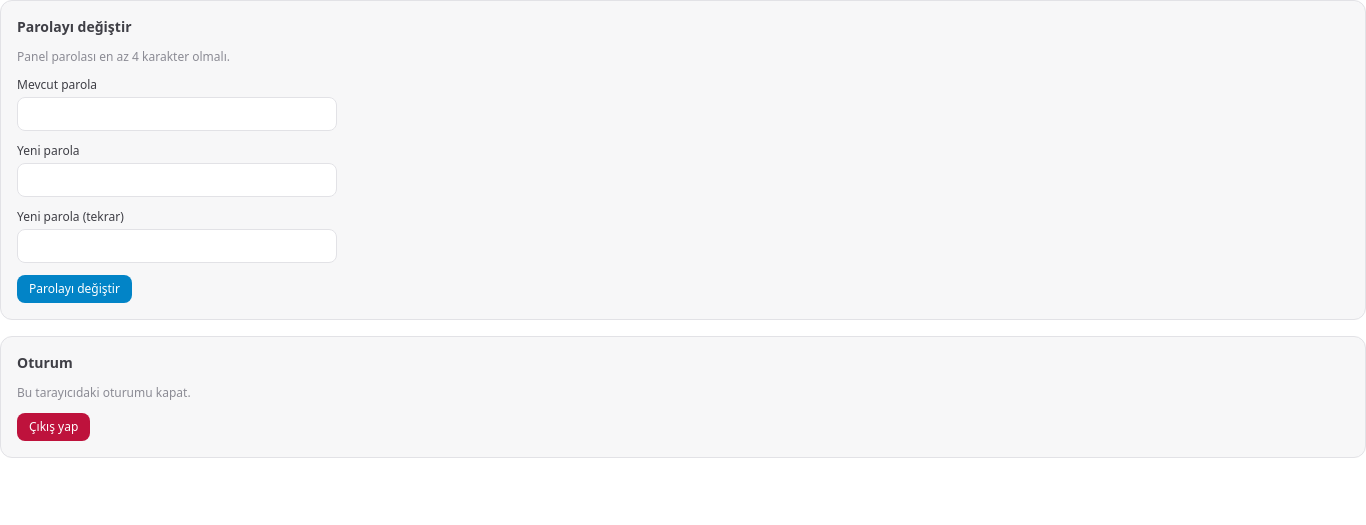
Test: SecuritySection password change › rejects a too-short new password client-side
The image size is (1366, 525).
Type "old-password" into the password field labelled "Mevcut parola" at [177, 114], box [17,97,337,131]
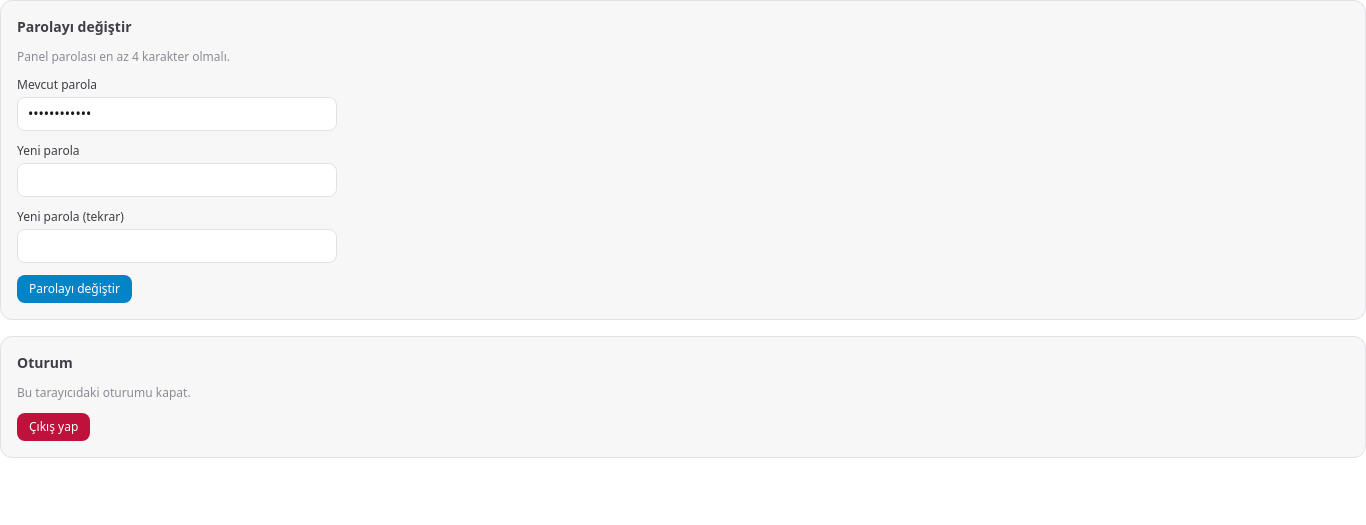
Type "abc" into the password field labelled "Yeni parola" at [177, 180], box [17,163,337,197]
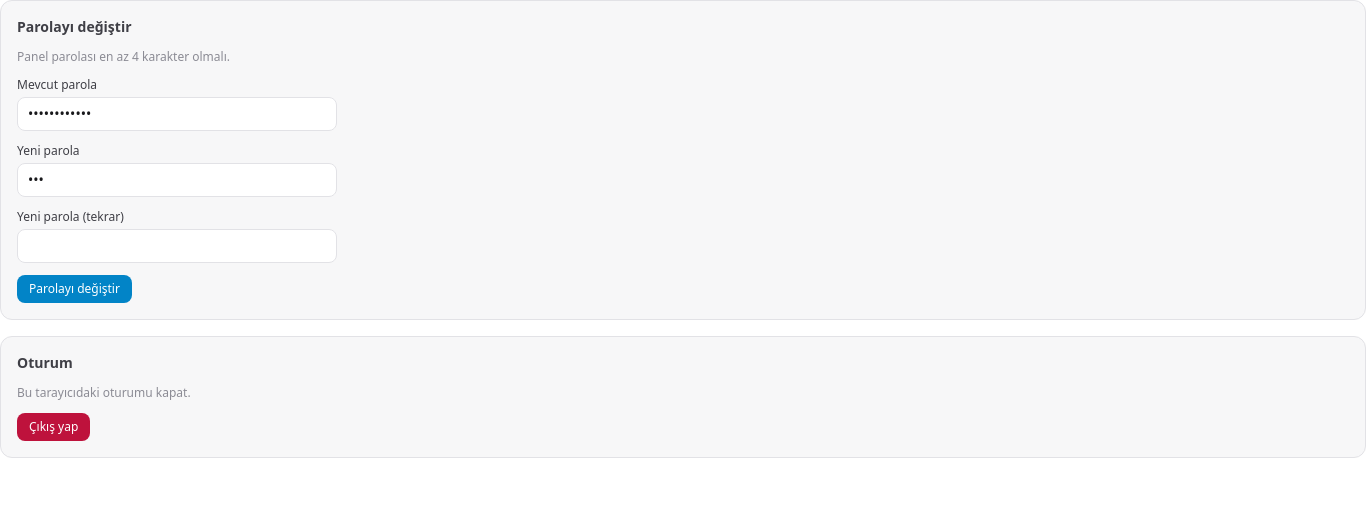
Type "abc" into the password field labelled "Yeni parola (tekrar)" at [177, 246], box [17,229,337,263]
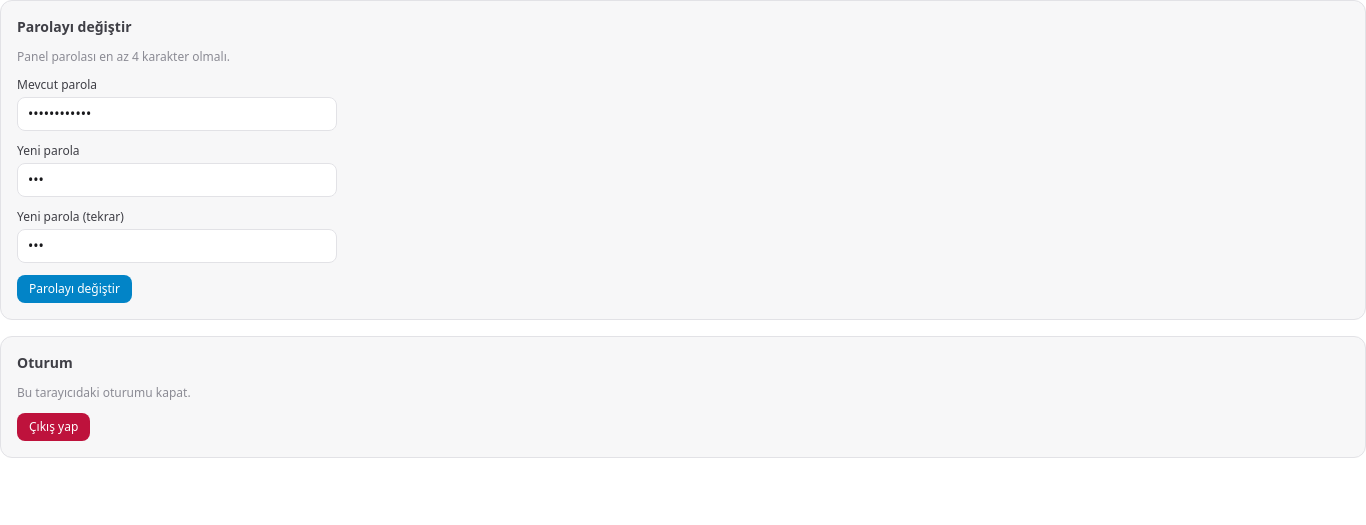
Click the button "Parolayı değiştir" at [74, 289], box [17,275,132,303]
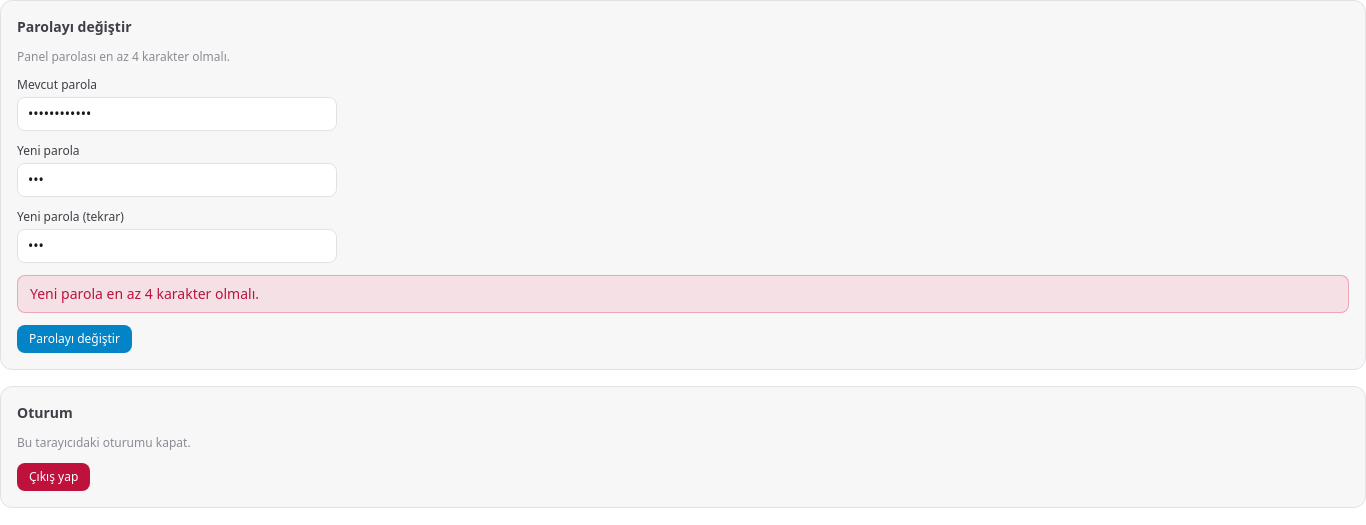
expect the text "Yeni parola en az 4 karakter olmalı." is shown: met, box [17,275,1349,313]
